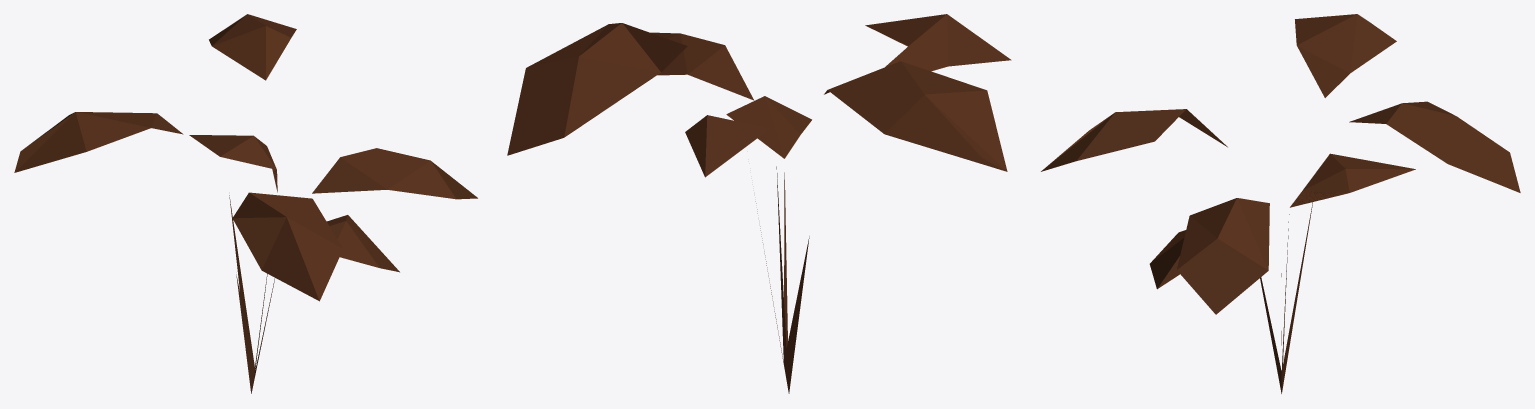
The model's file is ShrubLeavesTiny01.fbx.
The picture shows the model from 3 angles, left to right: view 1: azimuth 30°, elevation 25°; view 2: azimuth 150°, elevation 25°; view 3: azimuth 270°, elevation 25°; orthographic projection. The views are drawn at different scales.
Visible parts, largest first — view 1: ShrubLeavesTiny01; view 2: ShrubLeavesTiny01; view 3: ShrubLeavesTiny01.
Part boxes in pixels (box(x1,y1,x2,y2)): ShrubLeavesTiny01: box(14, 14, 477, 393); ShrubLeavesTiny01: box(507, 14, 1011, 393); ShrubLeavesTiny01: box(1041, 14, 1520, 393).
Size of the model in its own units: 52.15 by 38.75 by 51.34.
